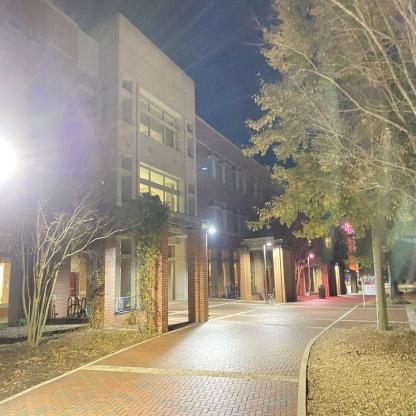eb2: (1, 1, 354, 304)
